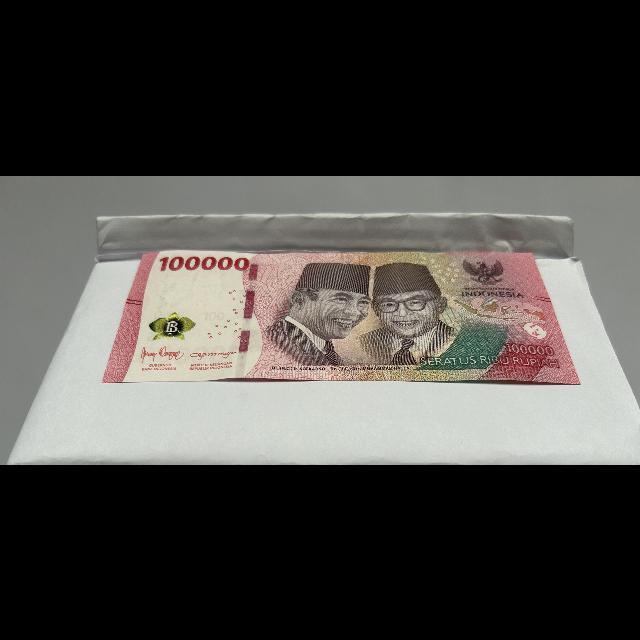Asli-100k: (96, 247, 584, 388)
Tinta-Asli-100k: (143, 310, 200, 341)
